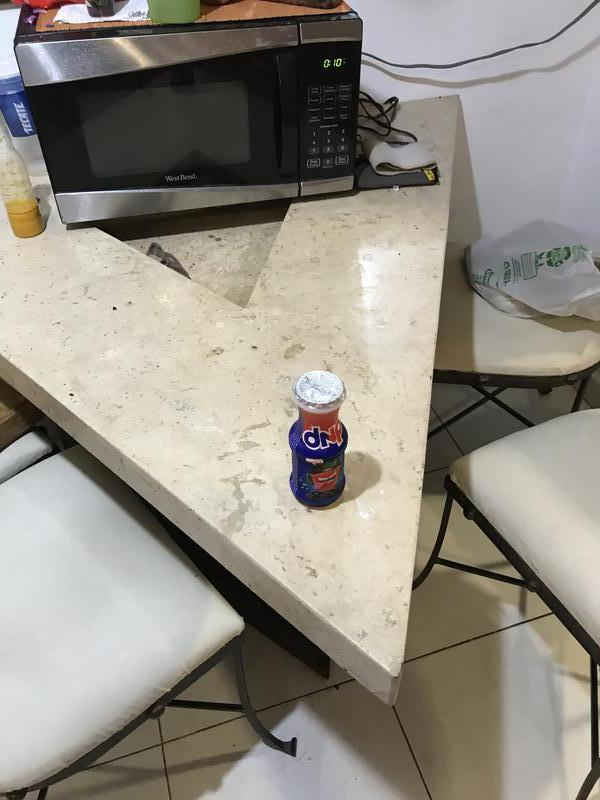danup: (290, 373, 350, 510)
